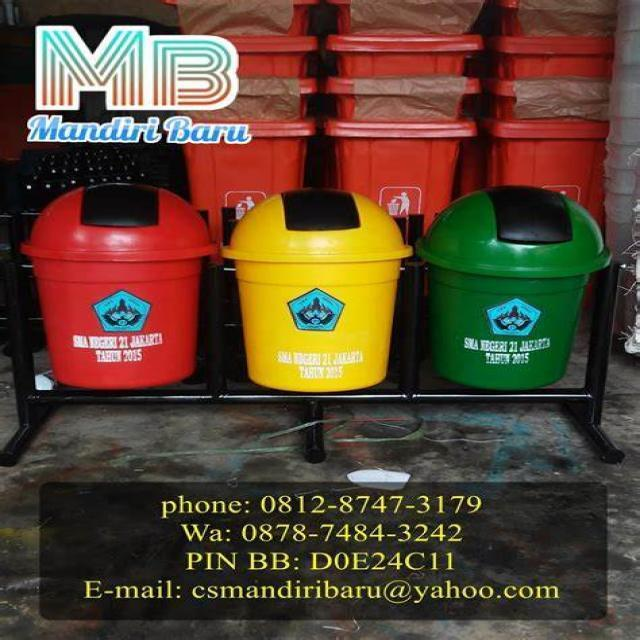garbage container: (421, 138, 627, 446), (21, 163, 238, 417), (240, 169, 418, 406)
